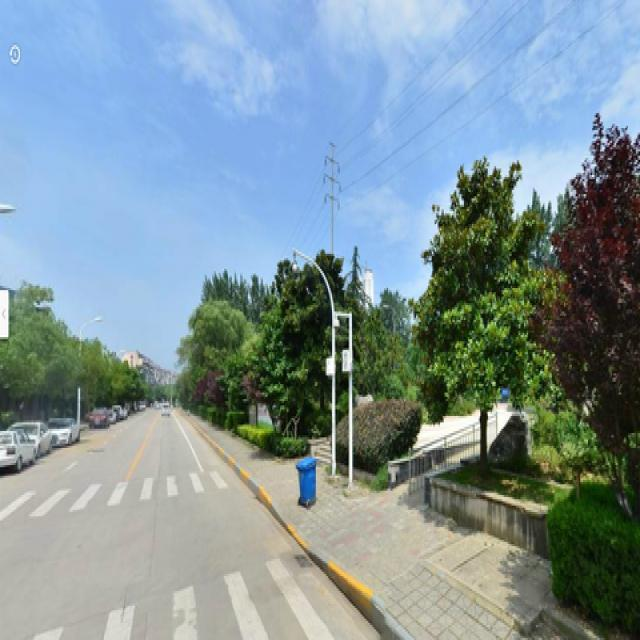magn: (424, 164, 548, 478)
